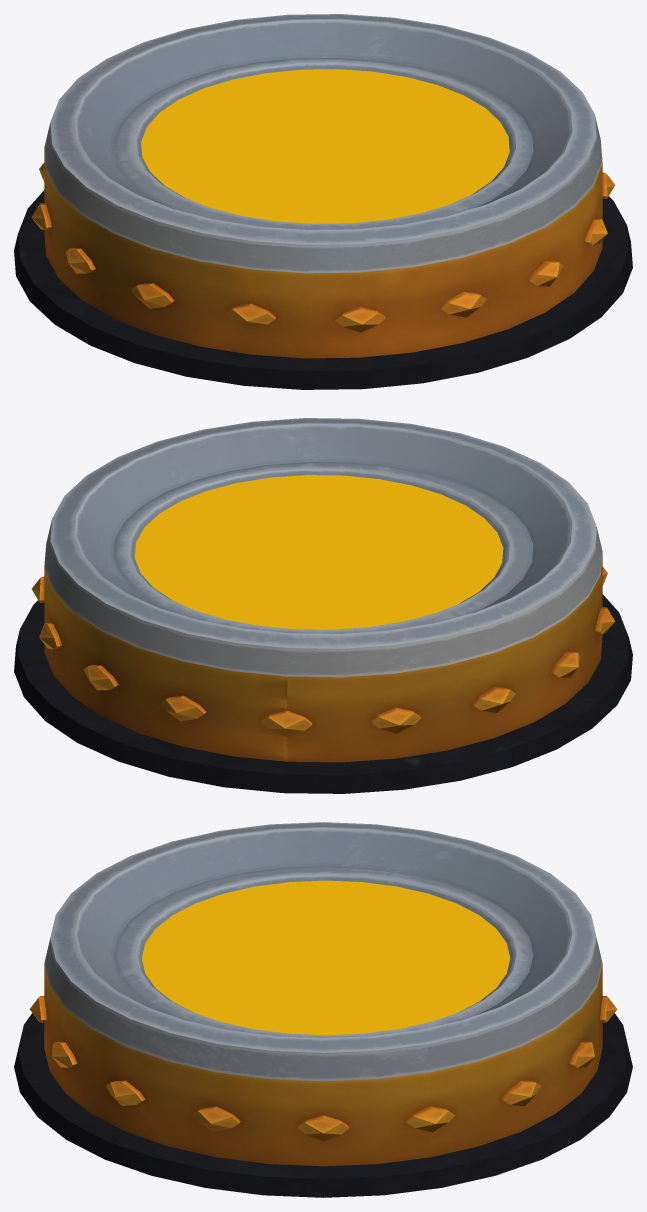
File: LaserBase5.glb
3 views of the same model, one above another, from view 1: azimuth 30°, elevation 25°; view 2: azimuth 150°, elevation 25°; view 3: azimuth 270°, elevation 25° (orthographic).
Parts seen in each view (by area): view 1: Laser Base5; view 2: Laser Base5; view 3: Laser Base5.
Part boxes in pixels (x1,y1,x2,y2): Laser Base5: [14, 14, 632, 389]; Laser Base5: [14, 418, 632, 793]; Laser Base5: [14, 822, 632, 1197].
Size of the model in its own units: 2.22 by 0.5303 by 2.22.
Materials: 1 (1 with a texture image).
